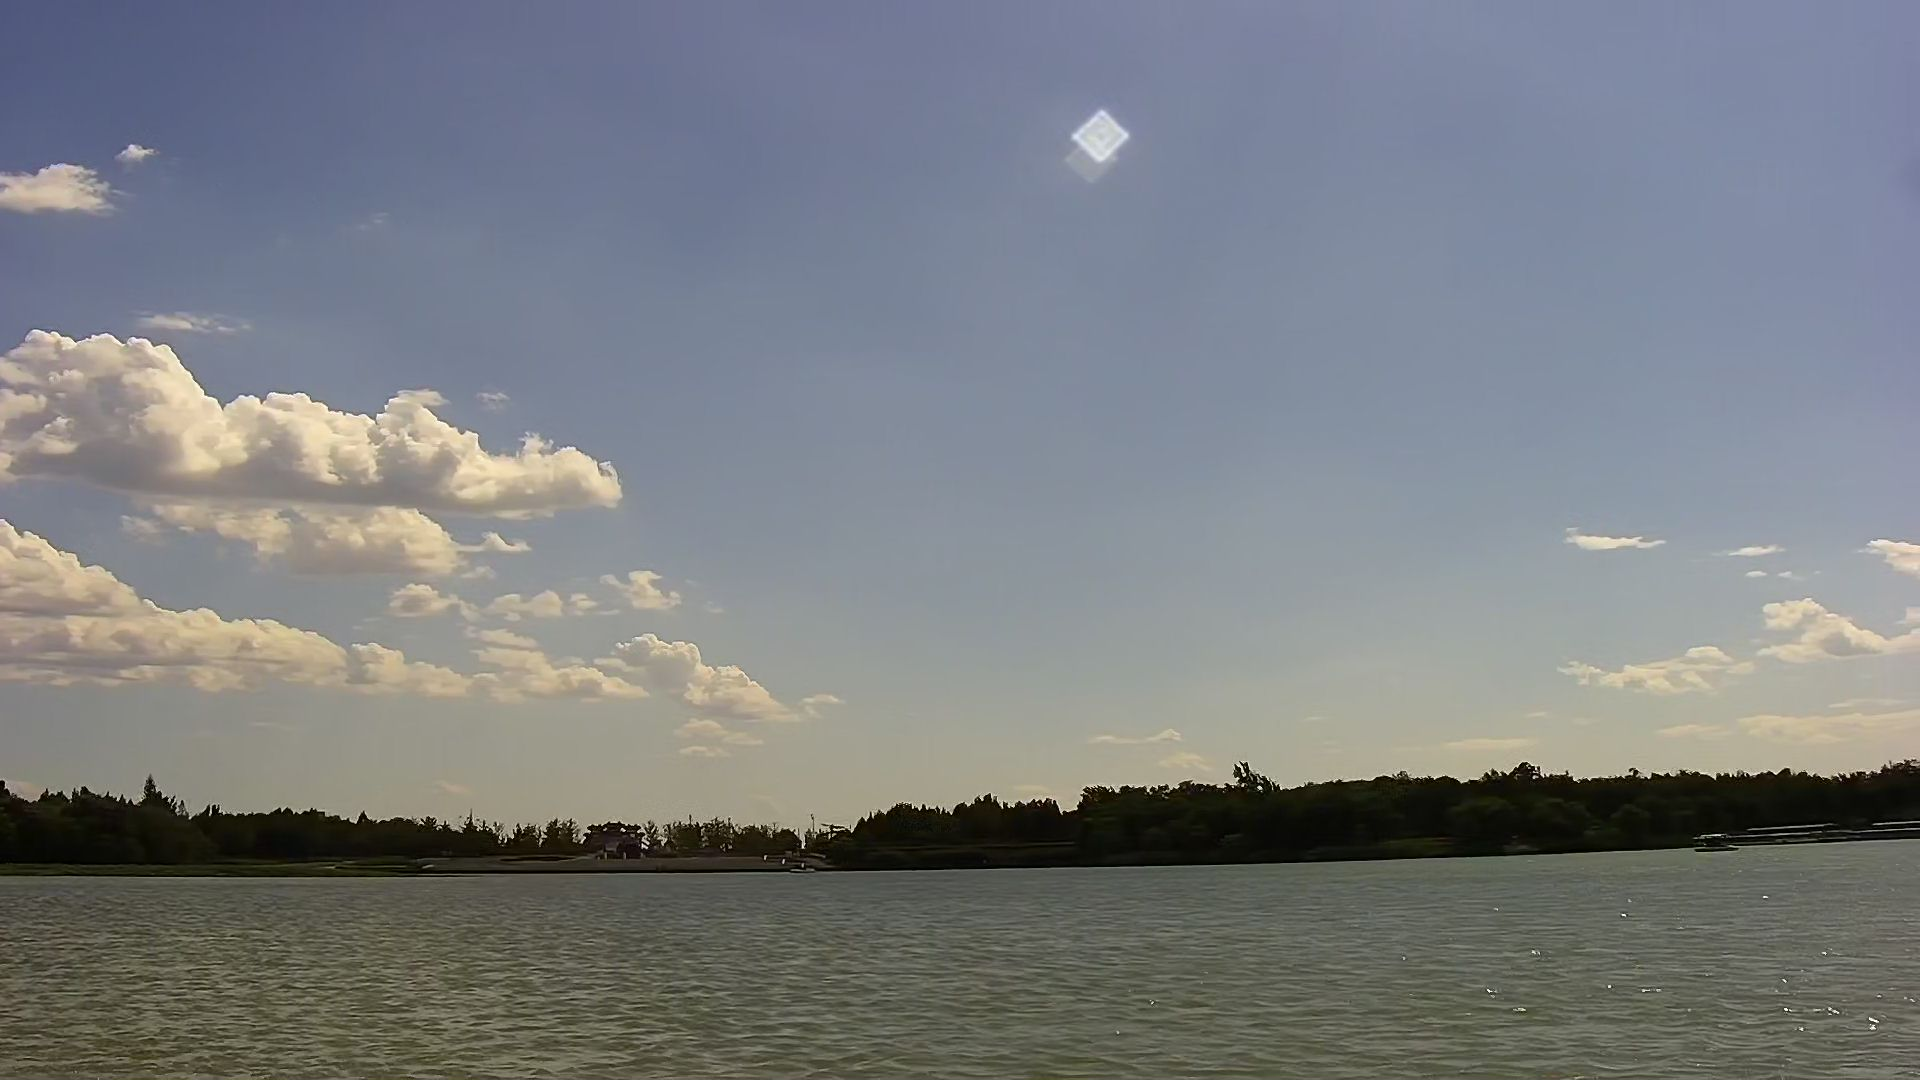boat: (1696, 829, 1735, 853)
harbor: (1741, 820, 1917, 843)
